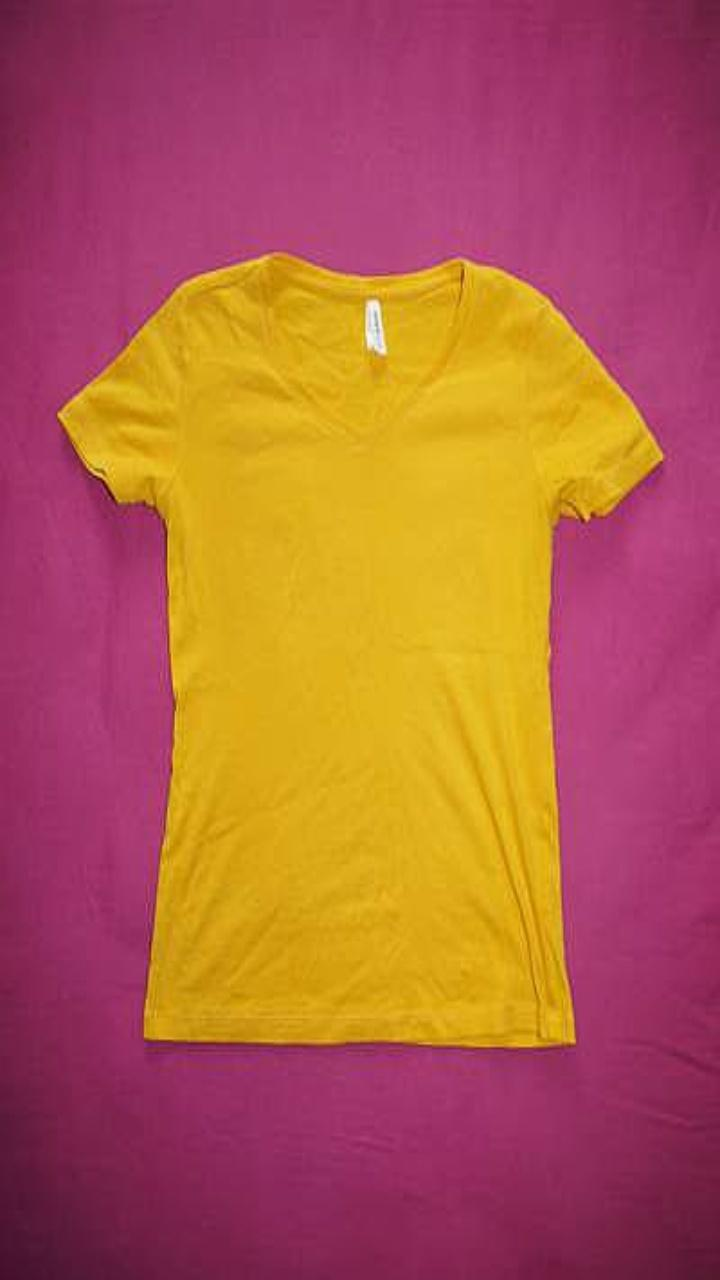T-Shirt: (57, 252, 663, 1045)
